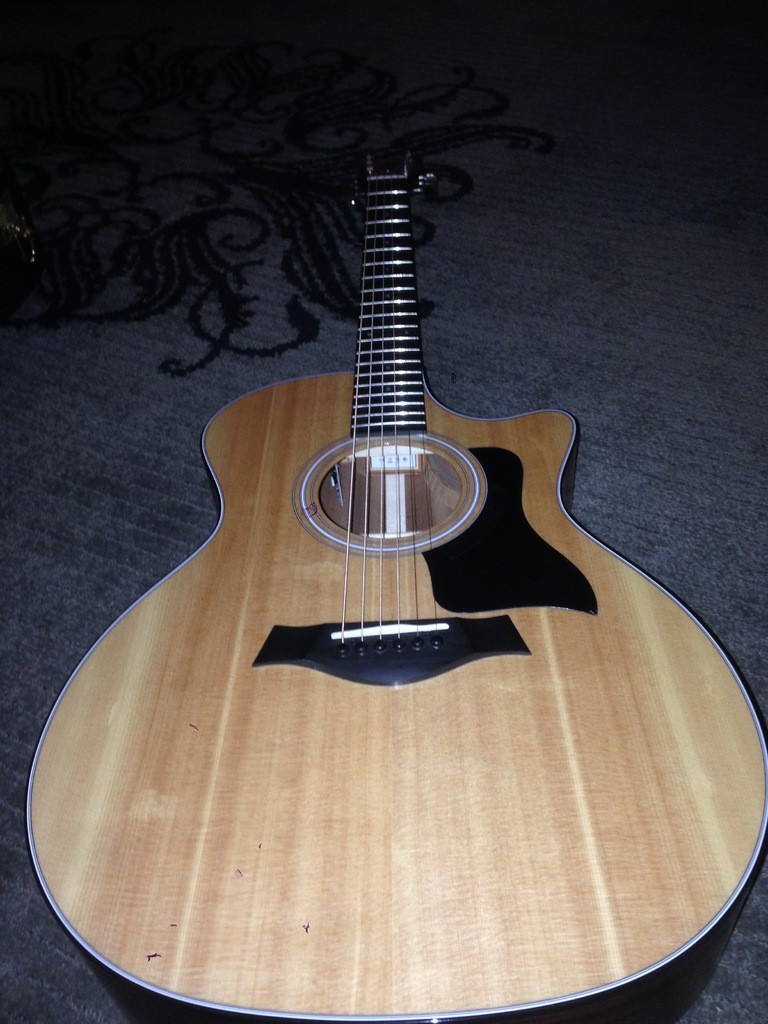guitar: (24, 142, 767, 1024)
